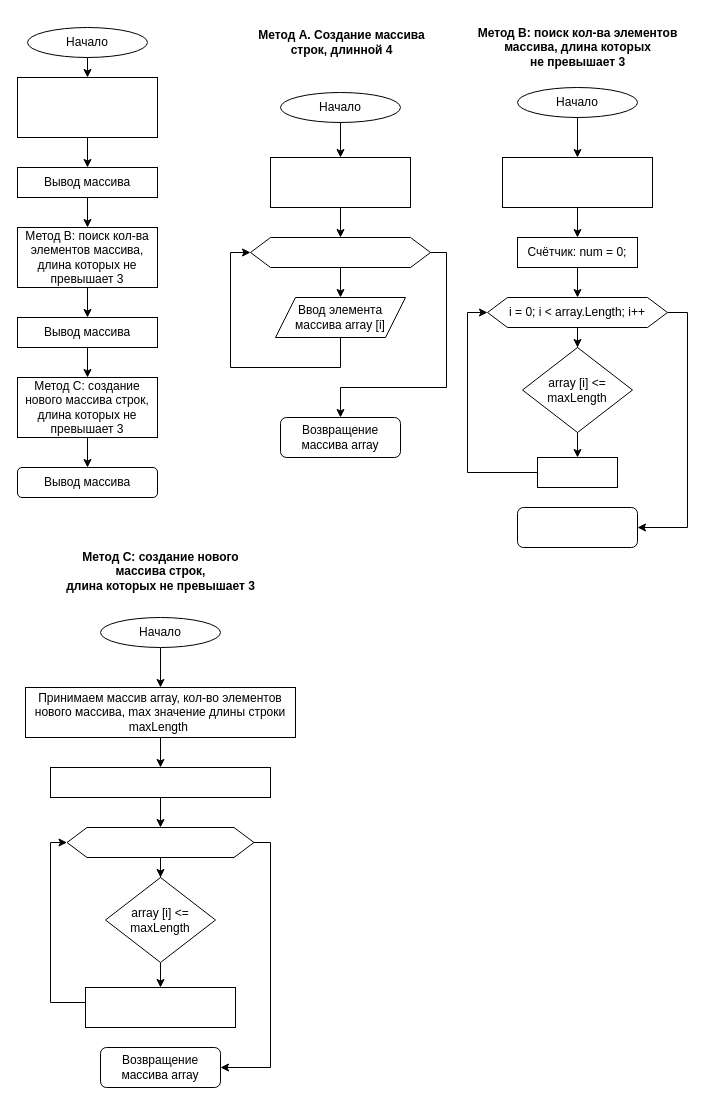
This 713x1105 diagram has some shape labels left out. Here are the shapes that lost their labels. From the top down, the centre of each, then its label:
point 87,107: Метод А: создание массива строк. Длина массива: 4
point 340,182: Создание пустого массива array длинной elementNum = 4
point 577,182: Принимаем массив array и max значение длины строки maxLength
point 340,252: i = 0; i < elementNum; i++
point 577,472: num++;
point 577,527: Возвращение кол-ва элементов
point 160,782: Создание нового массива array заданной длины
point 160,842: i = 0; j = 0; i < array.Length; i++
point 160,1007: selectedArray [j] = array [i] j++;
